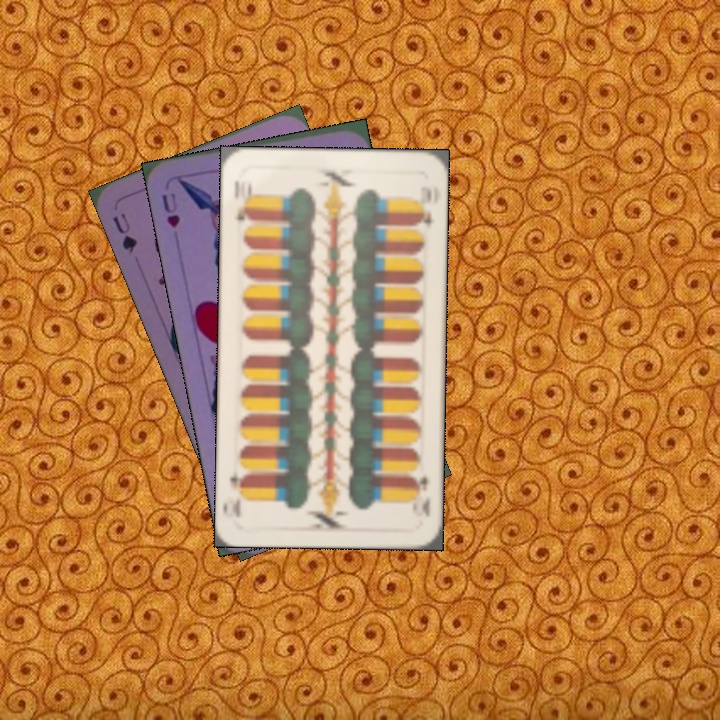E10: (408, 472, 433, 519), (230, 176, 254, 223)
GU: (108, 209, 140, 255)
HU: (158, 188, 182, 231)
